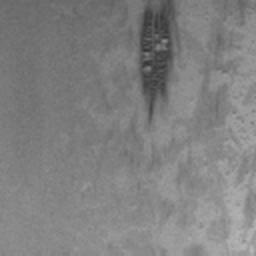Oxide scale of plate system: (140, 0, 182, 125)
